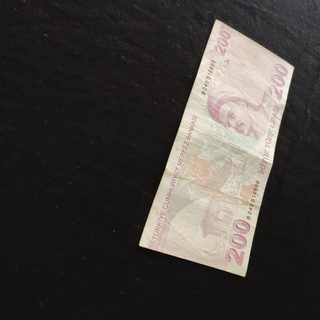200TLBack: (137, 17, 295, 277)
